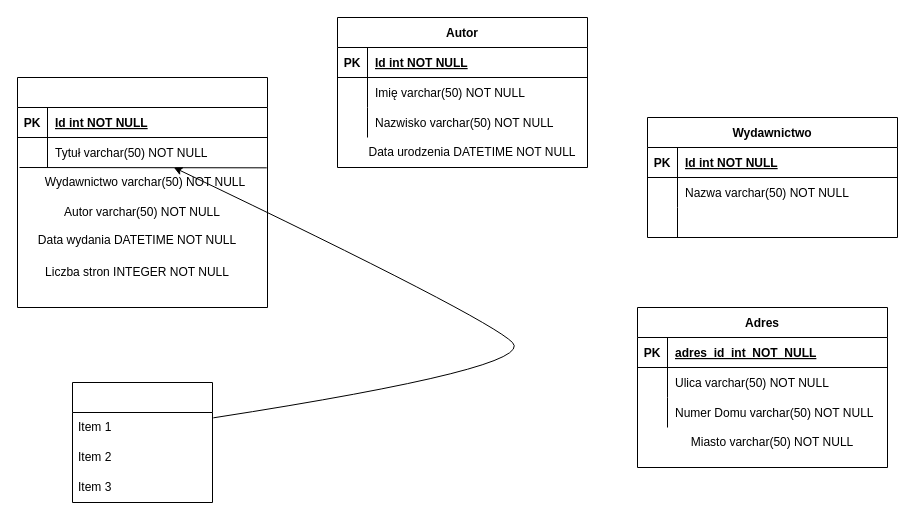
The diagram is 915 pixels wide and 520 high, and some of its shapes have lost their labels. The box of each missing label's shape, as (x1, y1, x2, y2) in pixels:
Książka: (16, 76, 268, 308)
List: (72, 382, 212, 502)
